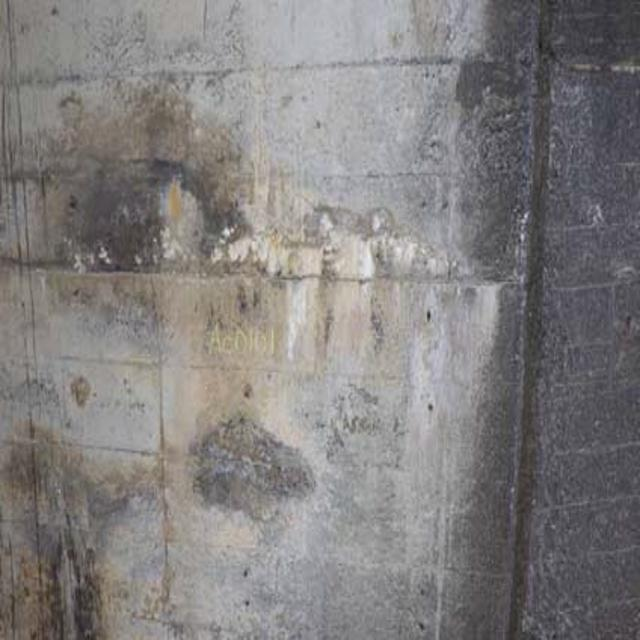freelime: (142, 168, 462, 292)
